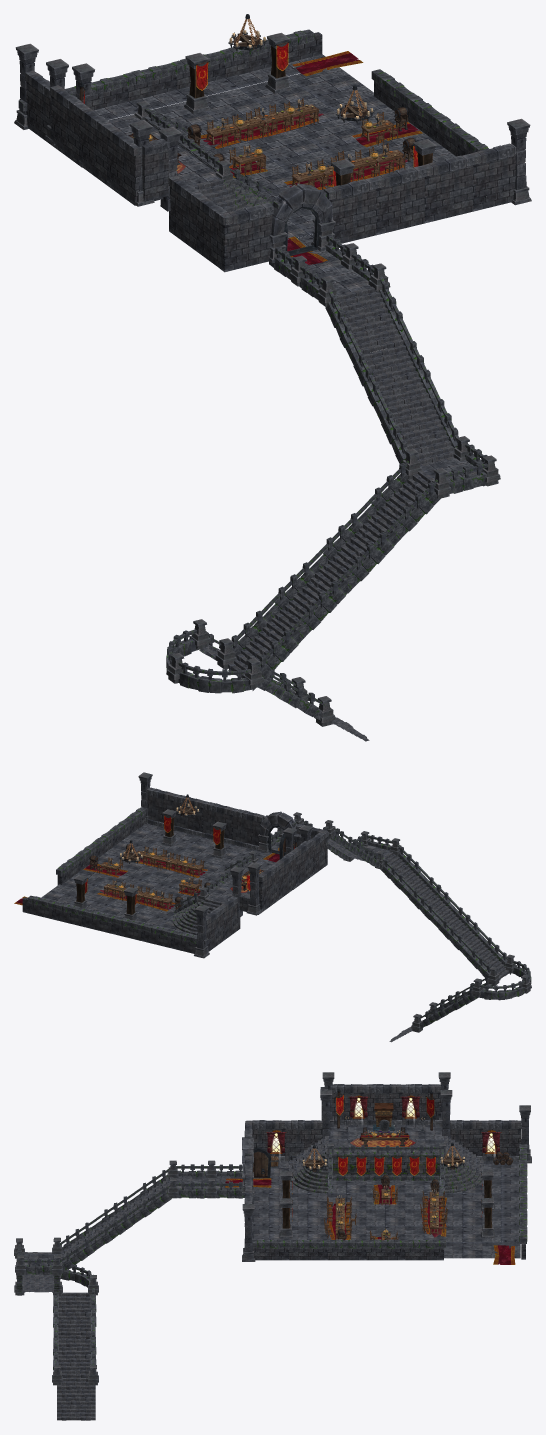
File: BanquetRoom.gltf
The picture shows the model from 3 angles, top to bottom: view 1: azimuth 30°, elevation 25°; view 2: azimuth 150°, elevation 25°; view 3: azimuth 270°, elevation 25°; orthographic projection. The views are drawn at different scales.
Visible parts, largest first — view 1: P_MOD_Wall_01_E_straight_med (×11), P_MOD_Stairs_01_E_straight_2 (2), P_MOD_Stairs_01_E_straight_2 (3), P_MOD_Stairs_01_E_straight_2 (4), P_MOD_Gateway_Arc_01, P_MOD_Railing_01_convex, P_MOD_Stairs_01_E_straight_2 (6), P_MOD_Stairs_01_E_straight_2 (12), P_MOD_Stairs_01_E_straight_2 (5), MOD_Floor_01_O_straight_med (24), MOD_Floor_01_O_straight_med (15), P_MOD_Wall_01_E_straight_med_half_L (+20 smaller); view 2: P_MOD_Wall_01_E_straight_med (×10), P_MOD_Railing_01_convex (1), P_MOD_Stairs_01_E_straight_2 (6), P_MOD_Stairs_01_E_straight_2 (12), P_MOD_Stairs_01_E_convex_2 (1), P_MOD_Gateway_Arc_01, P_MOD_Stairs_01_E_straight_2 (5), MOD_Floor_01_O_straight_med (20), P_MOD_Stairs_01_E_straight_2 (13), P_MOD_Stairs_01_Railing_2 (10), MOD_Floor_01_O_straight_med (6), P_MOD_Stairs_01_Railing_2 (8) (+25 smaller); view 3: P_MOD_Wall_01_E_straight_med (×7), P_MOD_Stairs_01_E_straight_2 (9), P_MOD_Stairs_01_E_straight_2 (7), P_MOD_Stairs_01_E_straight_2 (10), P_MOD_Stairs_01_E_convex_2 (1), P_MOD_Stairs_01_E_convex_2, MOD_Floor_01_O_straight_med (24), MOD_Floor_01_O_straight_med (3), MOD_Floor_01_O_straight_med (20), P_MOD_Stairs_01_Railing_2 (3), P_MOD_Stairs_01_E_straight_2, P_MOD_Stairs_01_E_straight_2 (1) (+25 smaller).
Boxes of the visible parts, x1,y1,x2,y2 form: P_MOD_Wall_01_E_straight_med (×11): (26, 81, 515, 272); P_MOD_Stairs_01_E_straight_2 (2): (337, 286, 403, 354); P_MOD_Stairs_01_E_straight_2 (3): (364, 344, 431, 412); P_MOD_Stairs_01_E_straight_2 (4): (392, 403, 454, 466); P_MOD_Gateway_Arc_01: (271, 183, 332, 235); P_MOD_Railing_01_convex: (178, 662, 254, 693); P_MOD_Stairs_01_E_straight_2 (6): (323, 518, 390, 582); P_MOD_Stairs_01_E_straight_2 (12): (275, 568, 341, 632); P_MOD_Stairs_01_E_straight_2 (5): (372, 470, 434, 533); MOD_Floor_01_O_straight_med (24): (247, 129, 322, 161); MOD_Floor_01_O_straight_med (15): (295, 118, 362, 149); P_MOD_Wall_01_E_straight_med_half_L: (142, 150, 168, 201); P_MOD_Wall_01_E_straight_med (×10): (147, 795, 325, 951); P_MOD_Railing_01_convex (1): (478, 980, 524, 1000); P_MOD_Stairs_01_E_straight_2 (6): (410, 881, 451, 919); P_MOD_Stairs_01_E_straight_2 (12): (440, 911, 480, 950); P_MOD_Stairs_01_E_convex_2 (1): (172, 898, 206, 933); P_MOD_Gateway_Arc_01: (260, 811, 297, 835); P_MOD_Stairs_01_E_straight_2 (5): (384, 851, 421, 889); MOD_Floor_01_O_straight_med (20): (145, 868, 189, 886); P_MOD_Stairs_01_E_straight_2 (13): (469, 941, 508, 978); P_MOD_Stairs_01_Railing_2 (10): (437, 914, 468, 956); MOD_Floor_01_O_straight_med (6): (122, 828, 164, 847); P_MOD_Stairs_01_Railing_2 (8): (407, 884, 438, 926); P_MOD_Wall_01_E_straight_med (×7): (252, 1092, 521, 1156); P_MOD_Stairs_01_E_straight_2 (9): (57, 1377, 95, 1420); P_MOD_Stairs_01_E_straight_2 (7): (58, 1292, 90, 1335); P_MOD_Stairs_01_E_straight_2 (10): (58, 1335, 90, 1377); P_MOD_Stairs_01_E_convex_2 (1): (444, 1151, 482, 1192); P_MOD_Stairs_01_E_convex_2: (290, 1151, 328, 1193); MOD_Floor_01_O_straight_med (24): (385, 1209, 422, 1225); MOD_Floor_01_O_straight_med (3): (462, 1242, 501, 1258); MOD_Floor_01_O_straight_med (20): (348, 1209, 385, 1225); P_MOD_Stairs_01_Railing_2 (3): (96, 1209, 134, 1249); P_MOD_Stairs_01_E_straight_2: (444, 1136, 483, 1175); P_MOD_Stairs_01_E_straight_2 (1): (289, 1136, 328, 1175).
Bounding box in the file's own units: 42.08 × 38.11 × 53.48.
23 materials, 23 textured.
